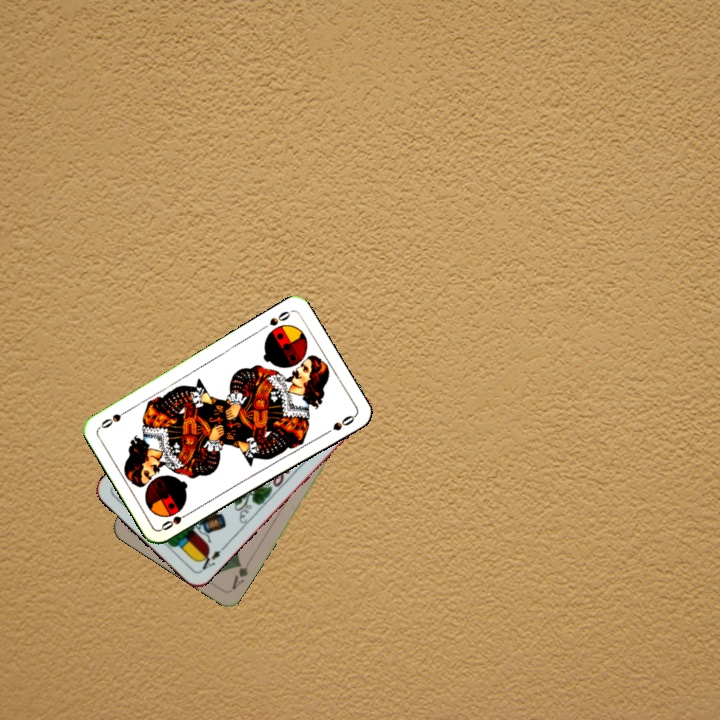EA: (195, 546, 223, 574)
GA: (227, 556, 253, 593)
SO: (157, 507, 195, 533), (265, 307, 293, 329)
